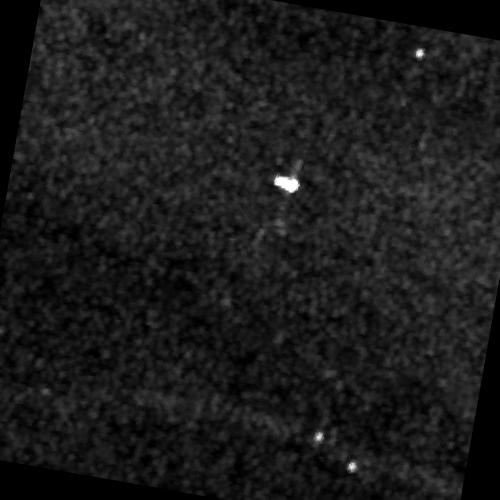ship: (273, 173, 300, 193)
